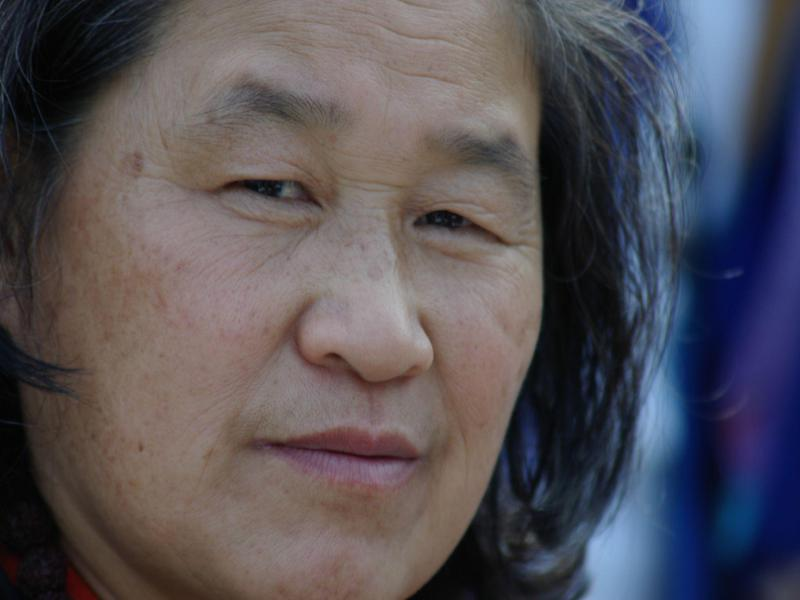person: (6, 1, 631, 590)
